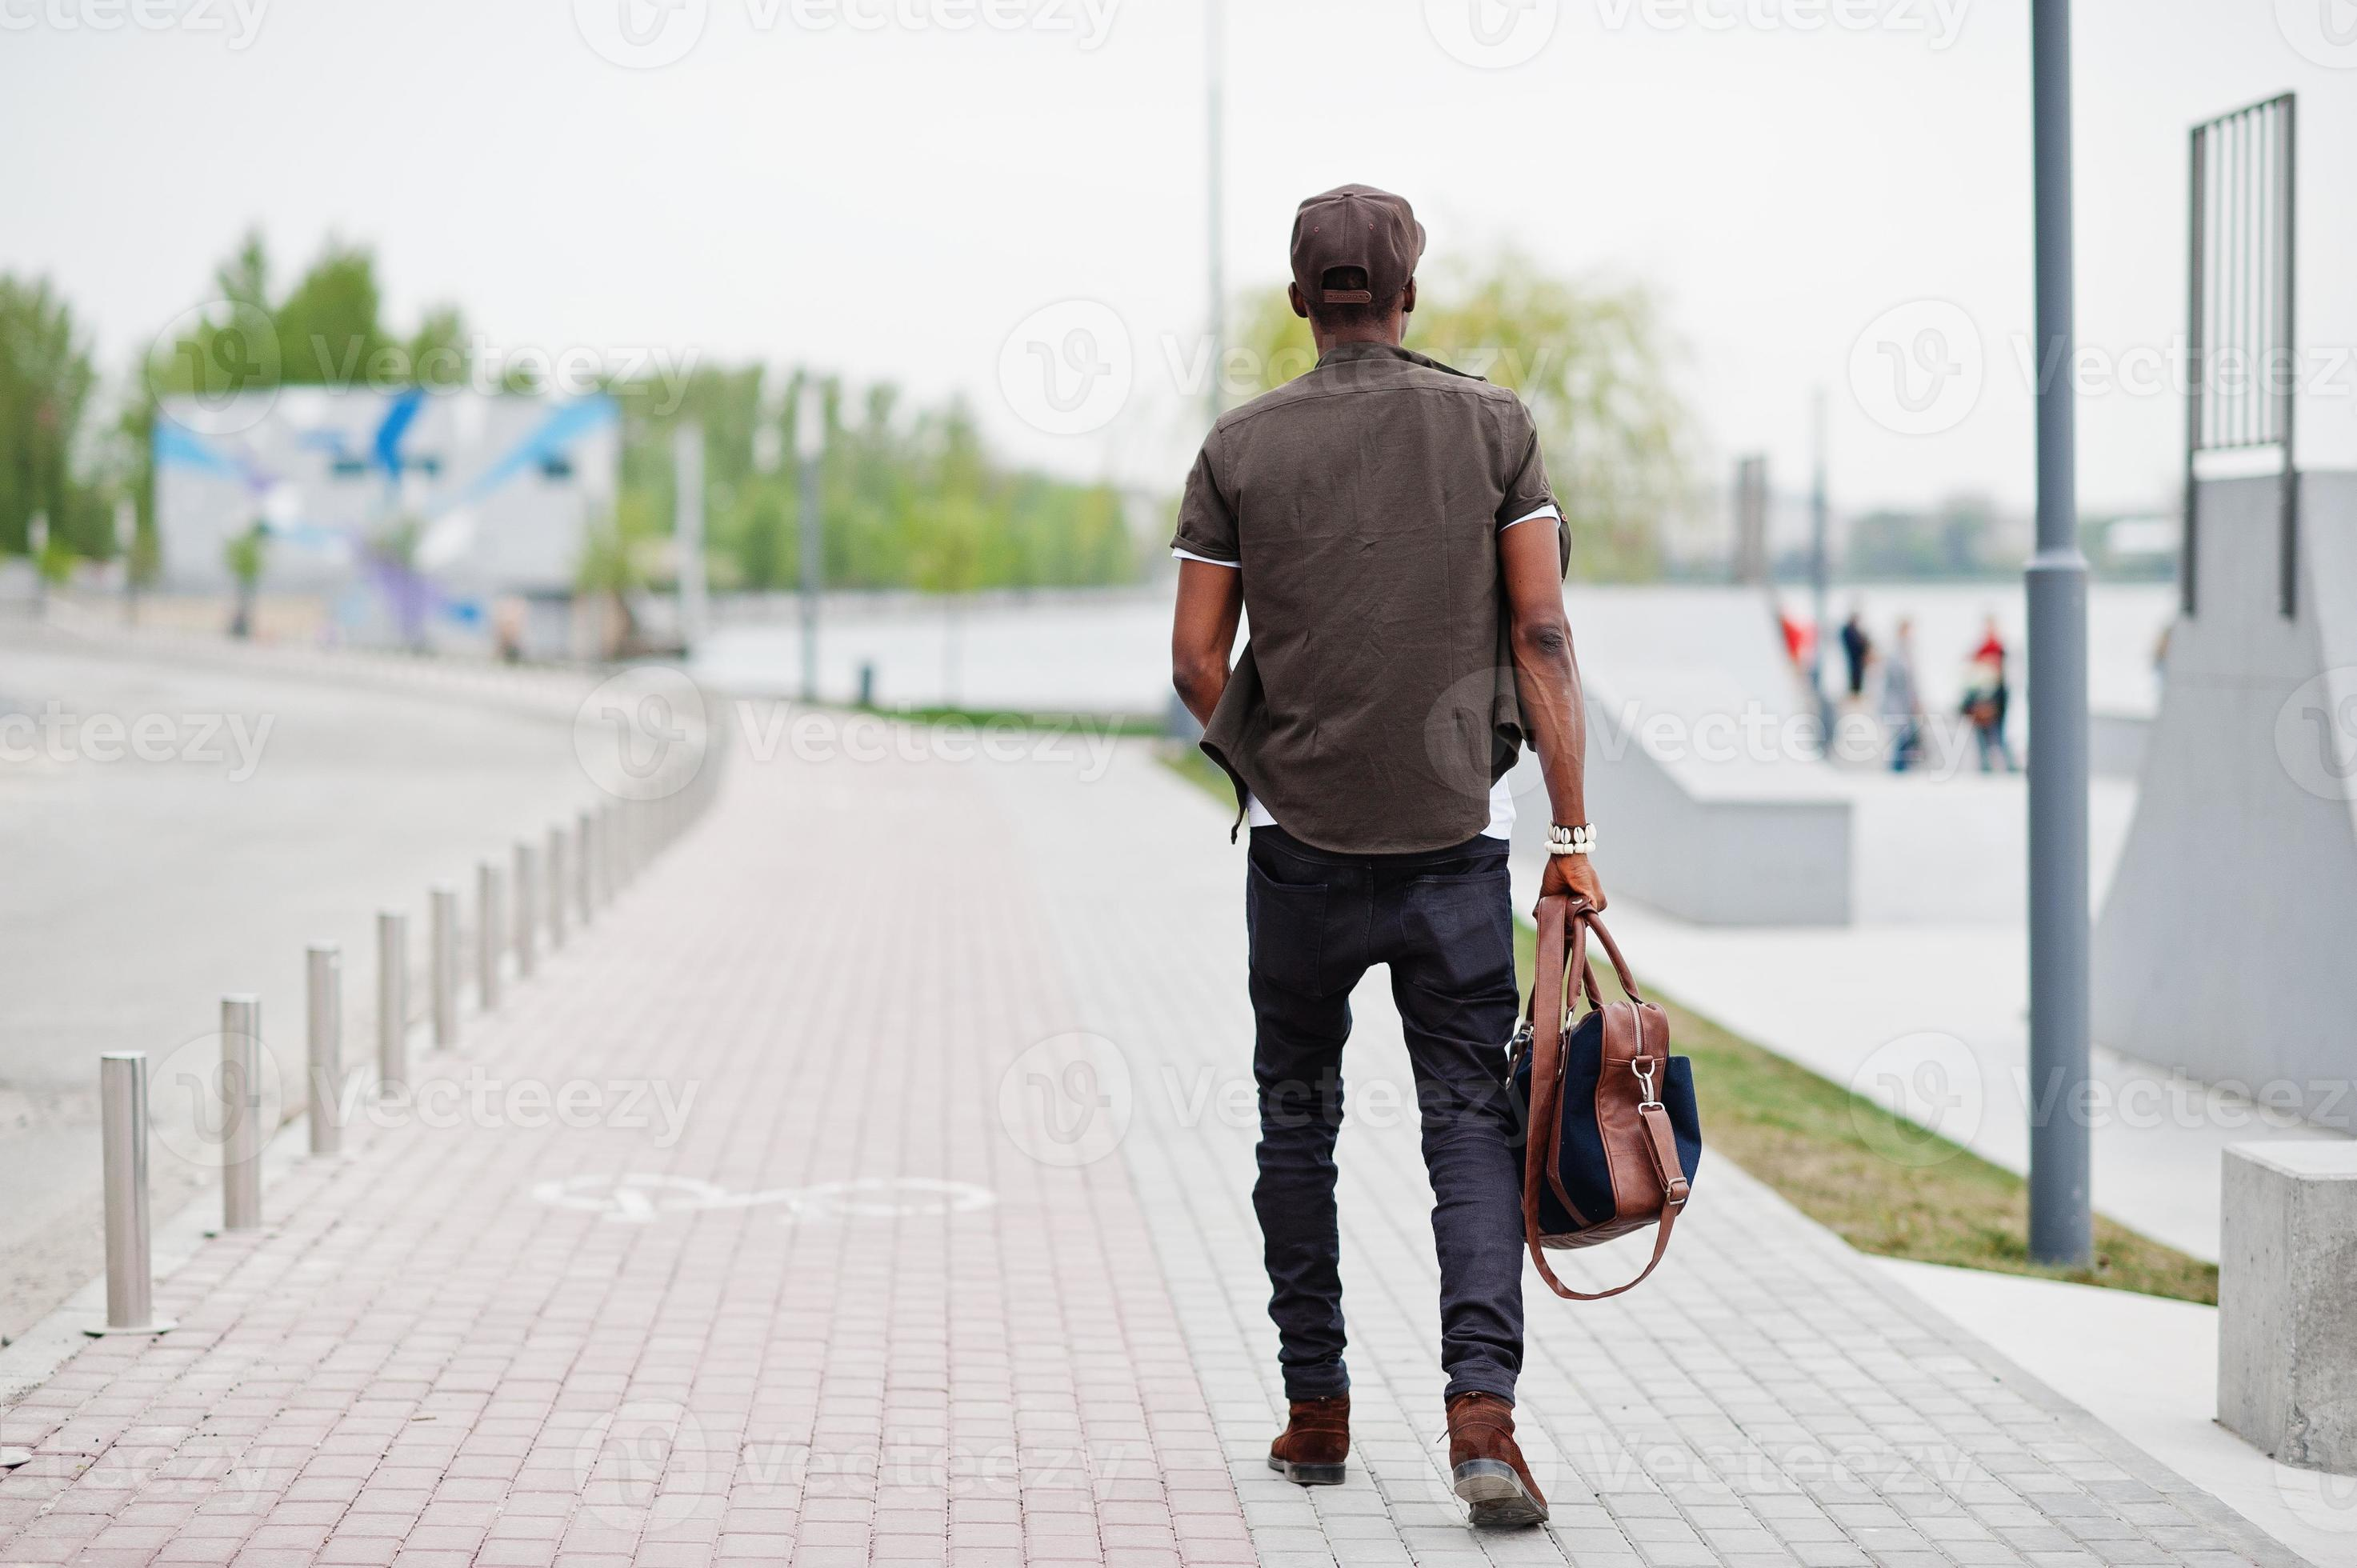person: (1166, 175, 1709, 1535)
